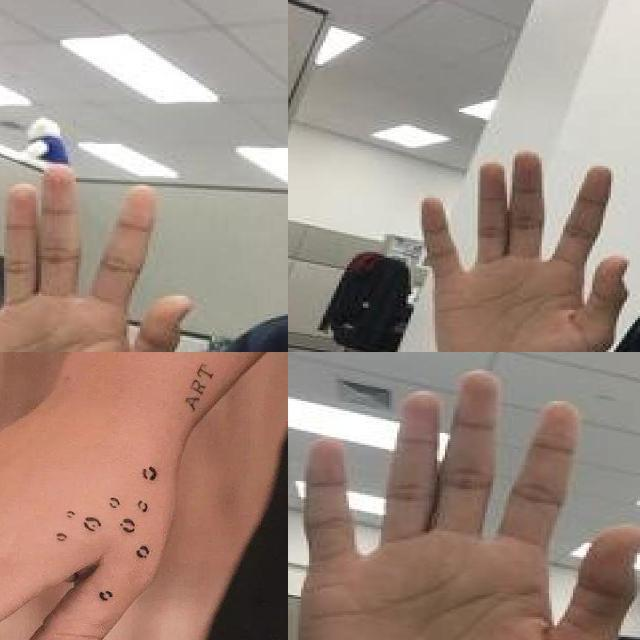no-gloves: (295, 371, 640, 640), (0, 378, 220, 640), (419, 150, 635, 352), (0, 162, 198, 352)
